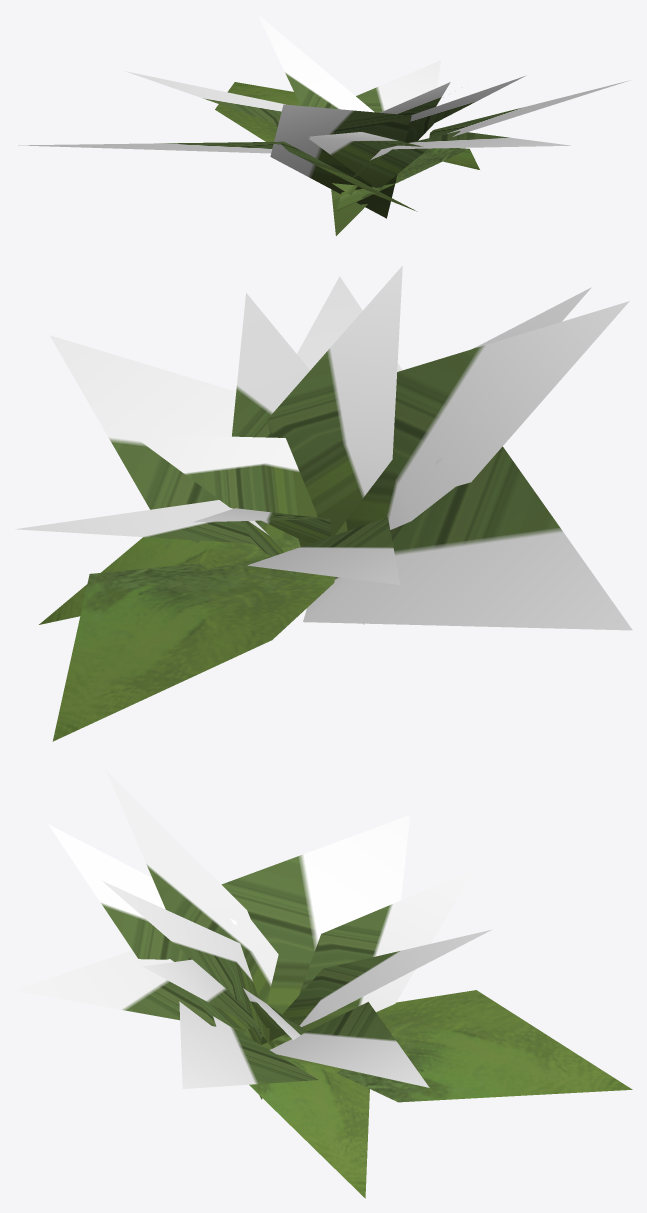
The model's file is Plante_02.fbx.
3 views of the same model, one above another, from view 1: azimuth 30°, elevation 25°; view 2: azimuth 150°, elevation 25°; view 3: azimuth 270°, elevation 25° (orthographic). The views are drawn at different scales.
Parts seen in each view (by area): view 1: Plante_02; view 2: Plante_02; view 3: Plante_02.
Part boxes in pixels (x1,y1,x2,y2): Plante_02: [18, 15, 629, 235]; Plante_02: [15, 266, 632, 741]; Plante_02: [14, 771, 632, 1198].
Size of the model in its own units: 1.33 by 0.5494 by 1.2.
